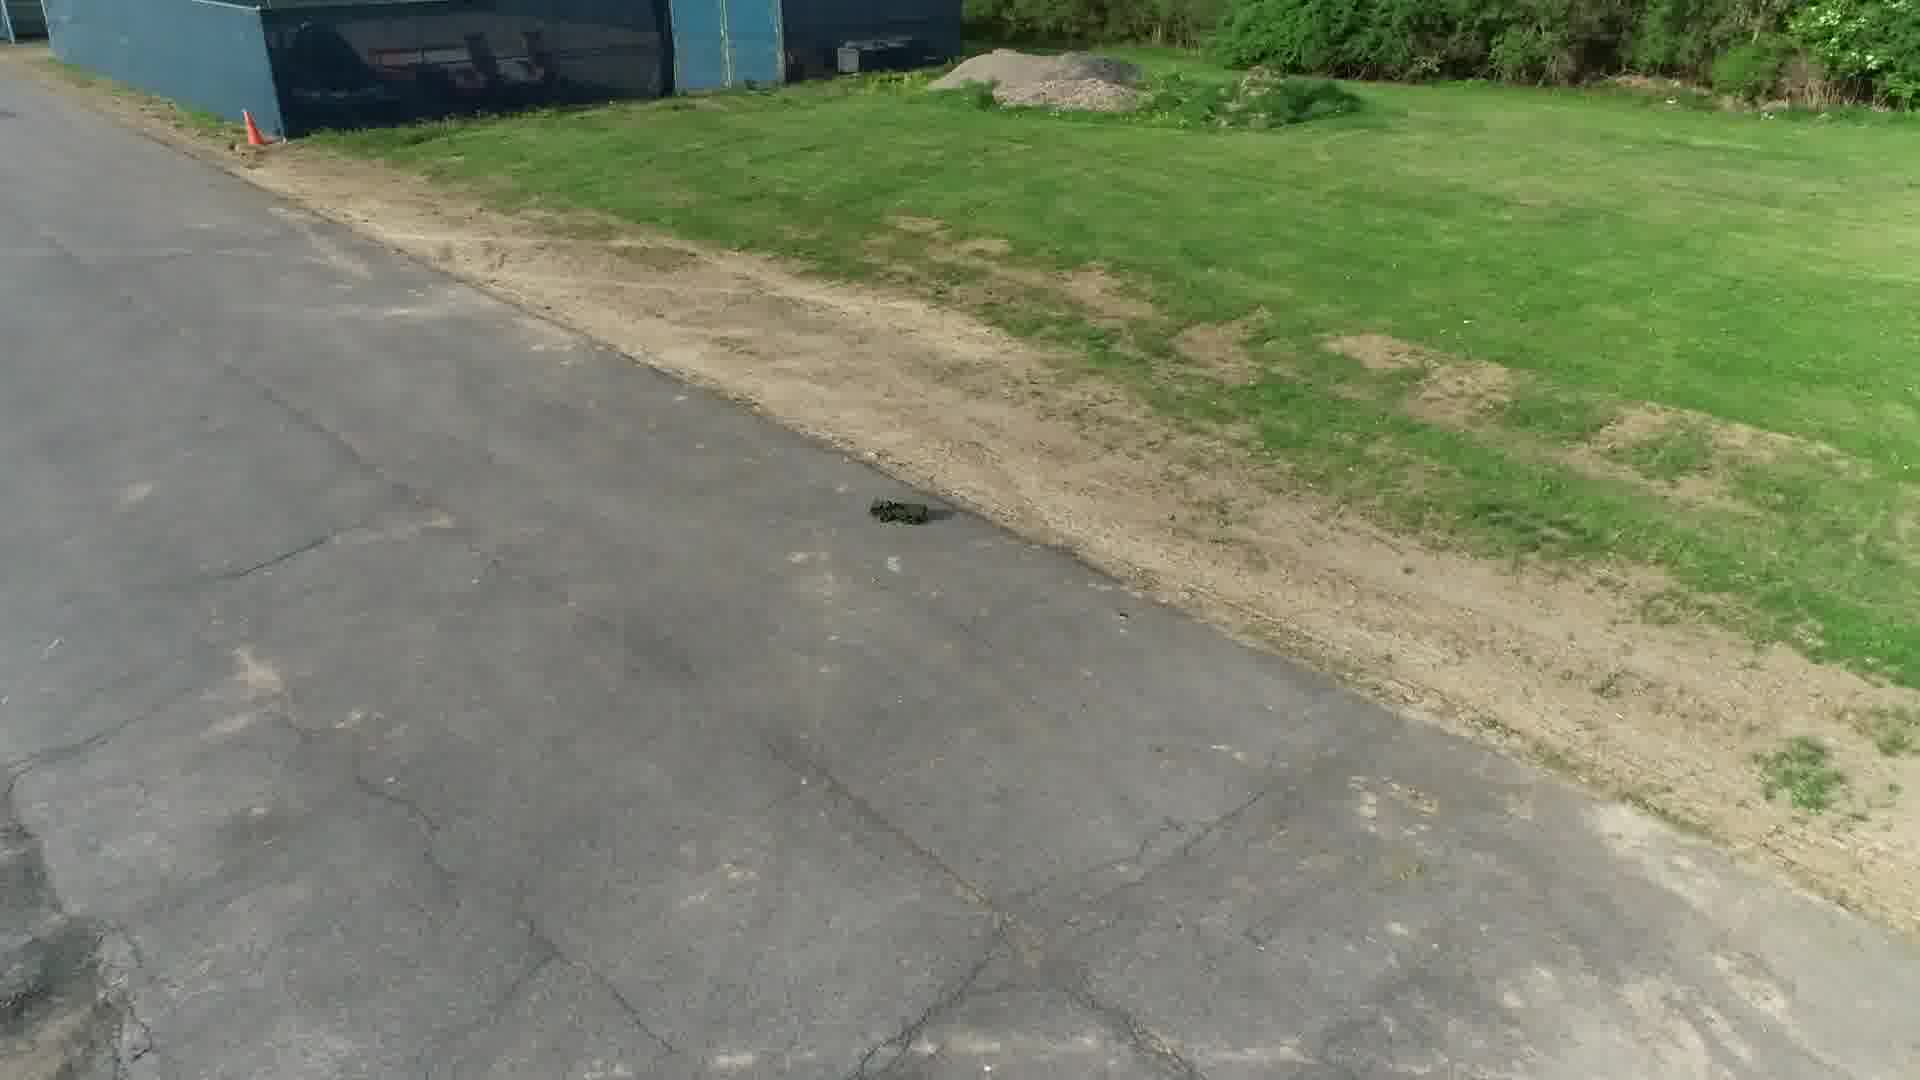transporter9: (864, 495, 928, 525)
